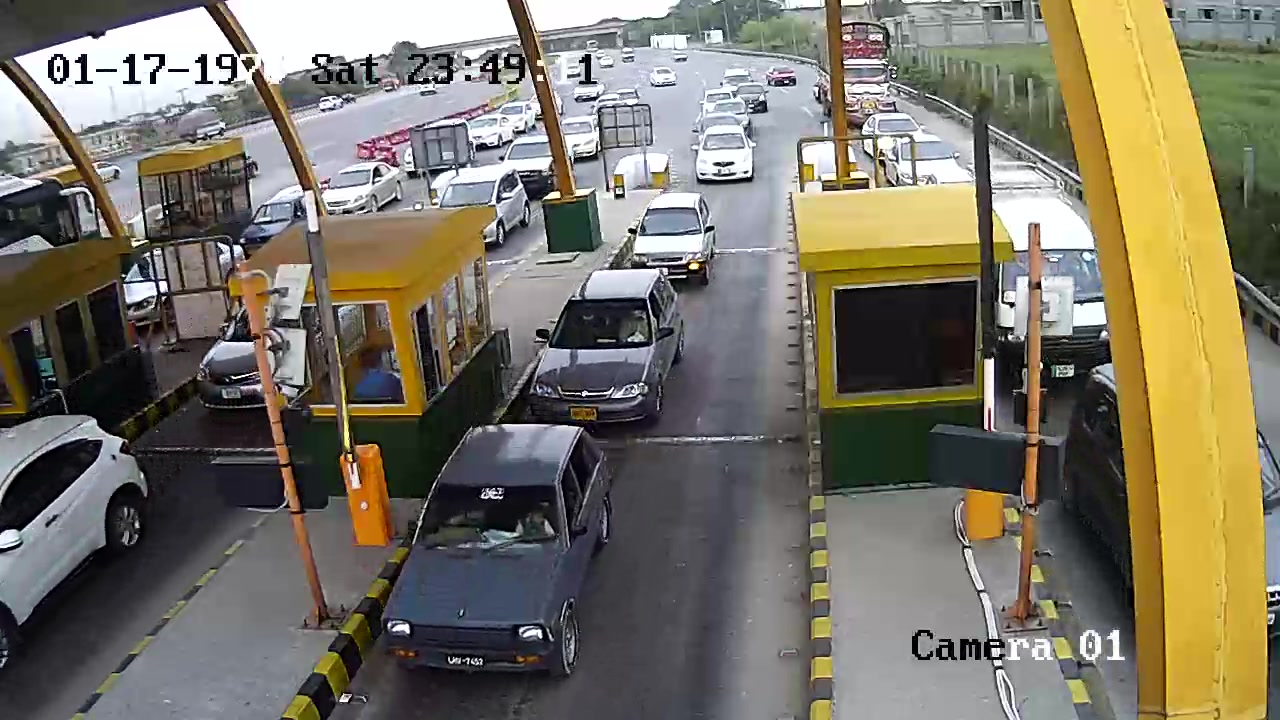F1: (383, 422, 621, 677), (518, 265, 689, 426)
